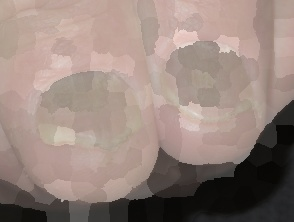Nail_psoriasis: (144, 25, 265, 145), (20, 58, 151, 164)
